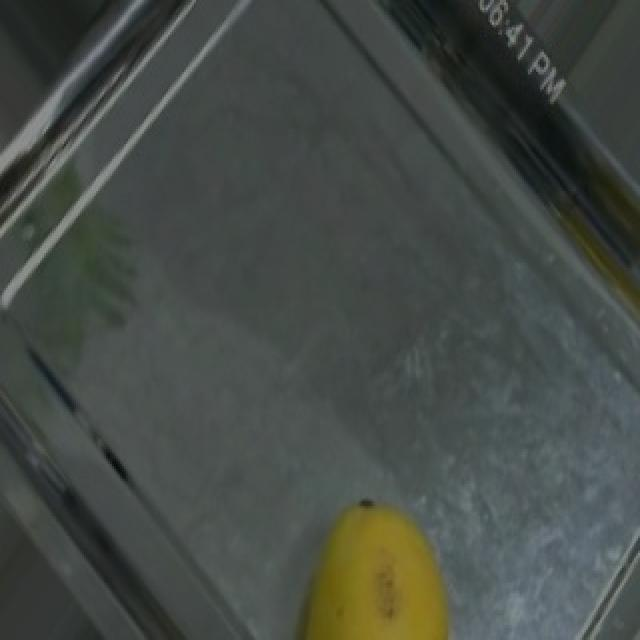fruit: (254, 461, 508, 640)
